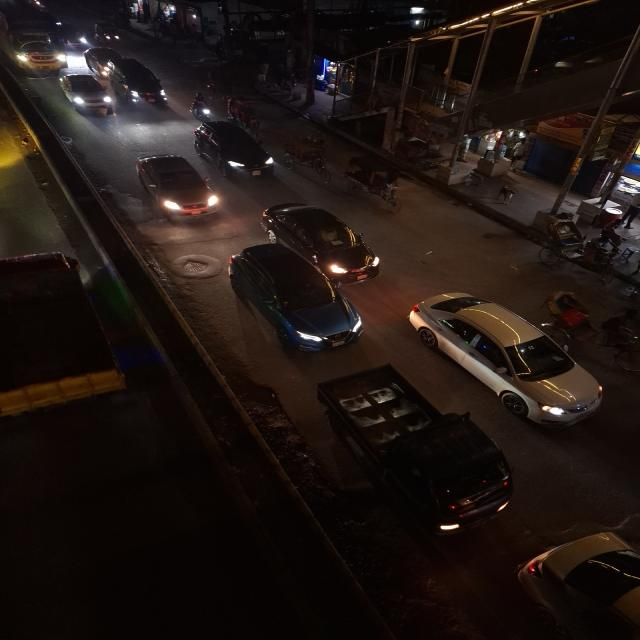bus: (0, 1, 71, 74)
car: (403, 287, 607, 430), (225, 244, 368, 357), (256, 200, 388, 283), (130, 151, 221, 225), (190, 118, 278, 180), (107, 54, 172, 110), (55, 72, 114, 118)
cng: (92, 20, 124, 46)
motorcycle: (187, 91, 214, 123)
pickup_van: (314, 362, 526, 537)
rickshaw: (0, 252, 123, 426), (533, 207, 636, 283), (547, 287, 640, 369), (341, 153, 407, 211), (282, 132, 337, 184)
